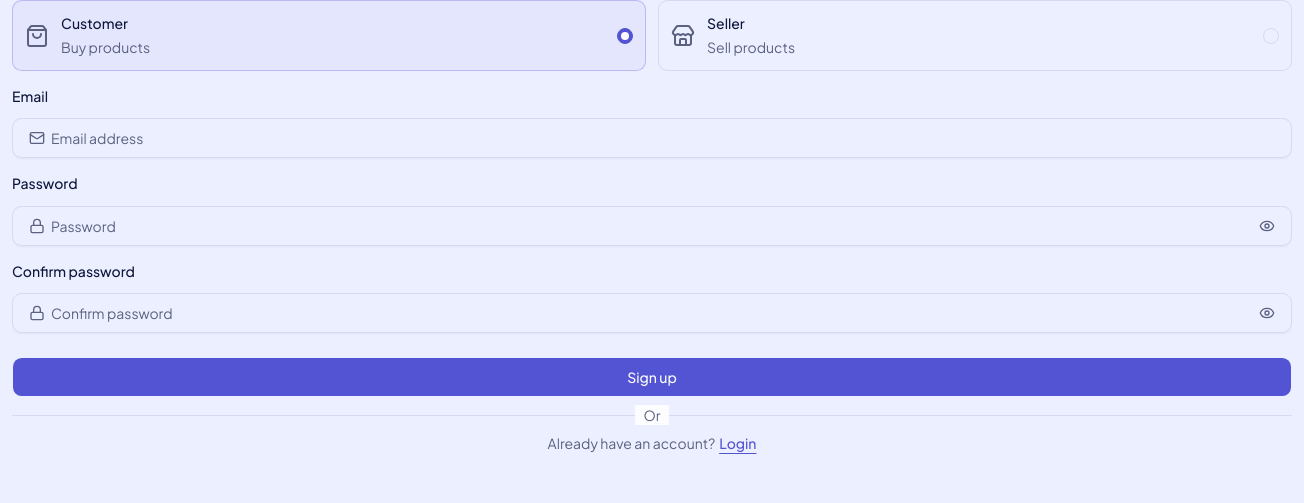
Test case: RegisterForm › konfirmasi password tidak cocok: menampilkan pesan dan tidak register
Type "user@mail.com" into the field labelled "Email".
click(664, 138); type("user@mail.com")  # box [45,120,1283,156]
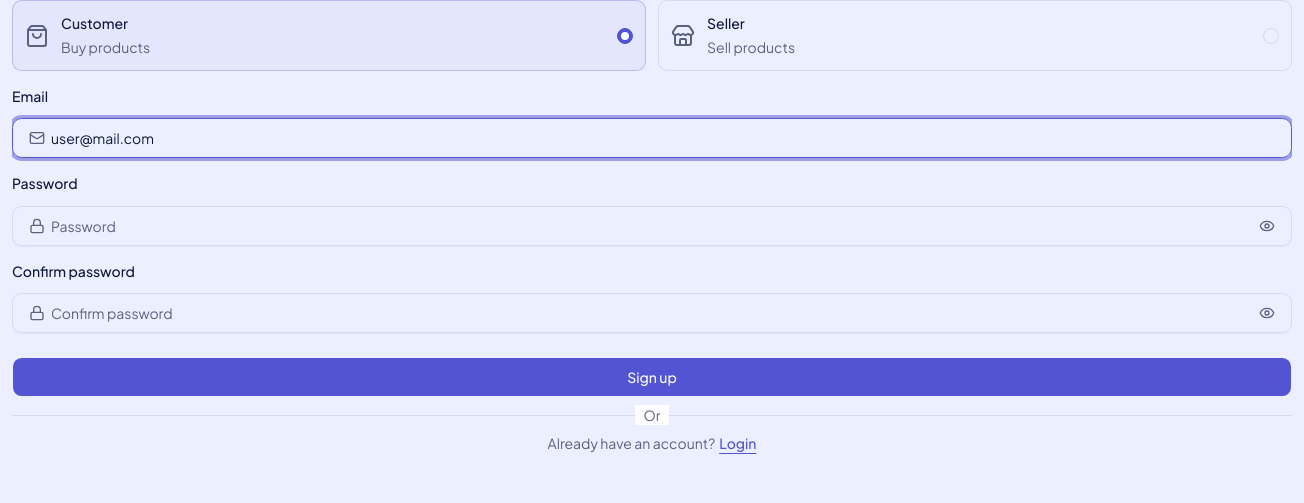
Type "password123" into the password field labelled "Password".
click(650, 226); type("password123")  # box [45,208,1255,244]
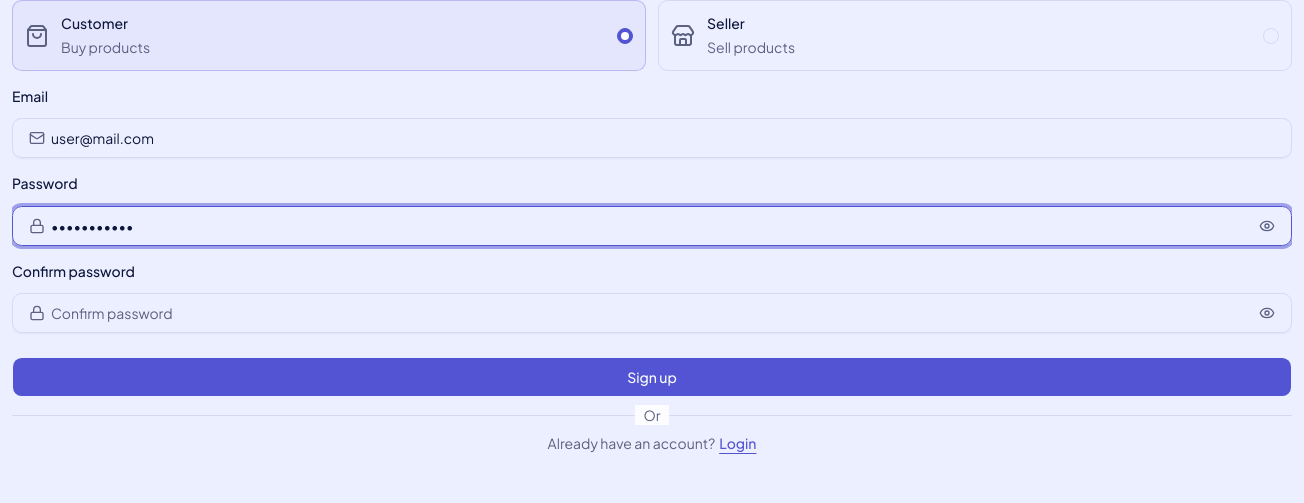
Type "beda123456" into the password field labelled "Confirm password".
click(650, 313); type("beda123456")  # box [45,295,1255,331]
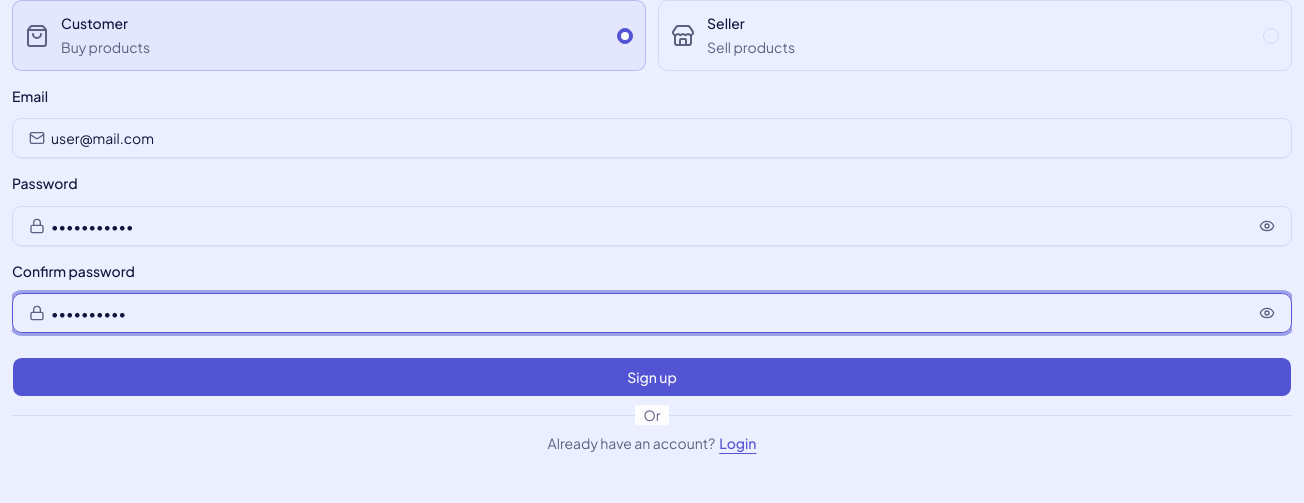
Click the button "Sign up".
click(652, 377)  # box [12,357,1292,397]
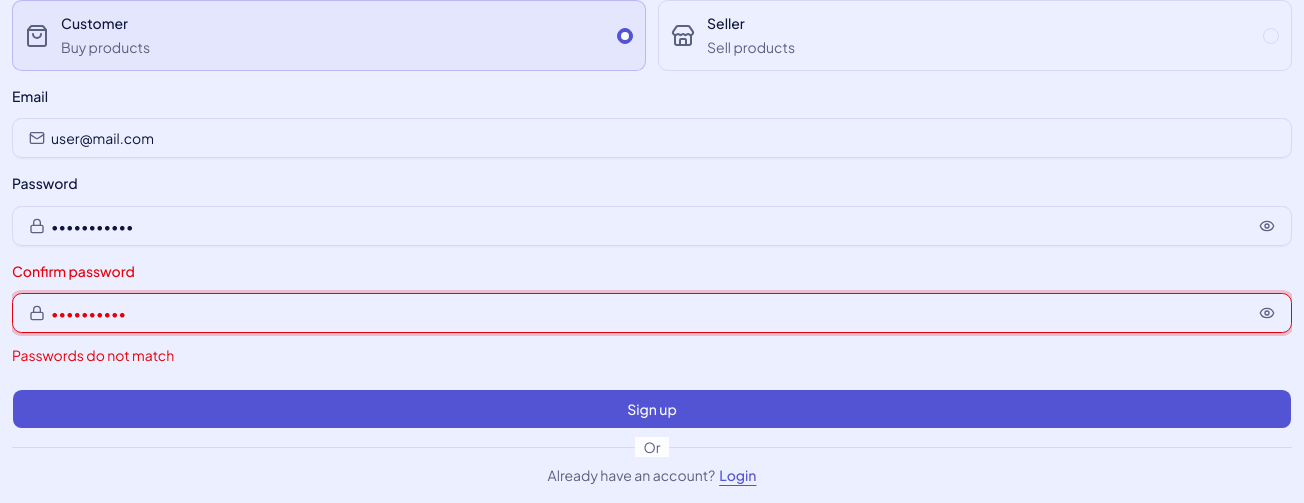
expect the text "Passwords do not match" is shown: met, box [12,346,174,364]
